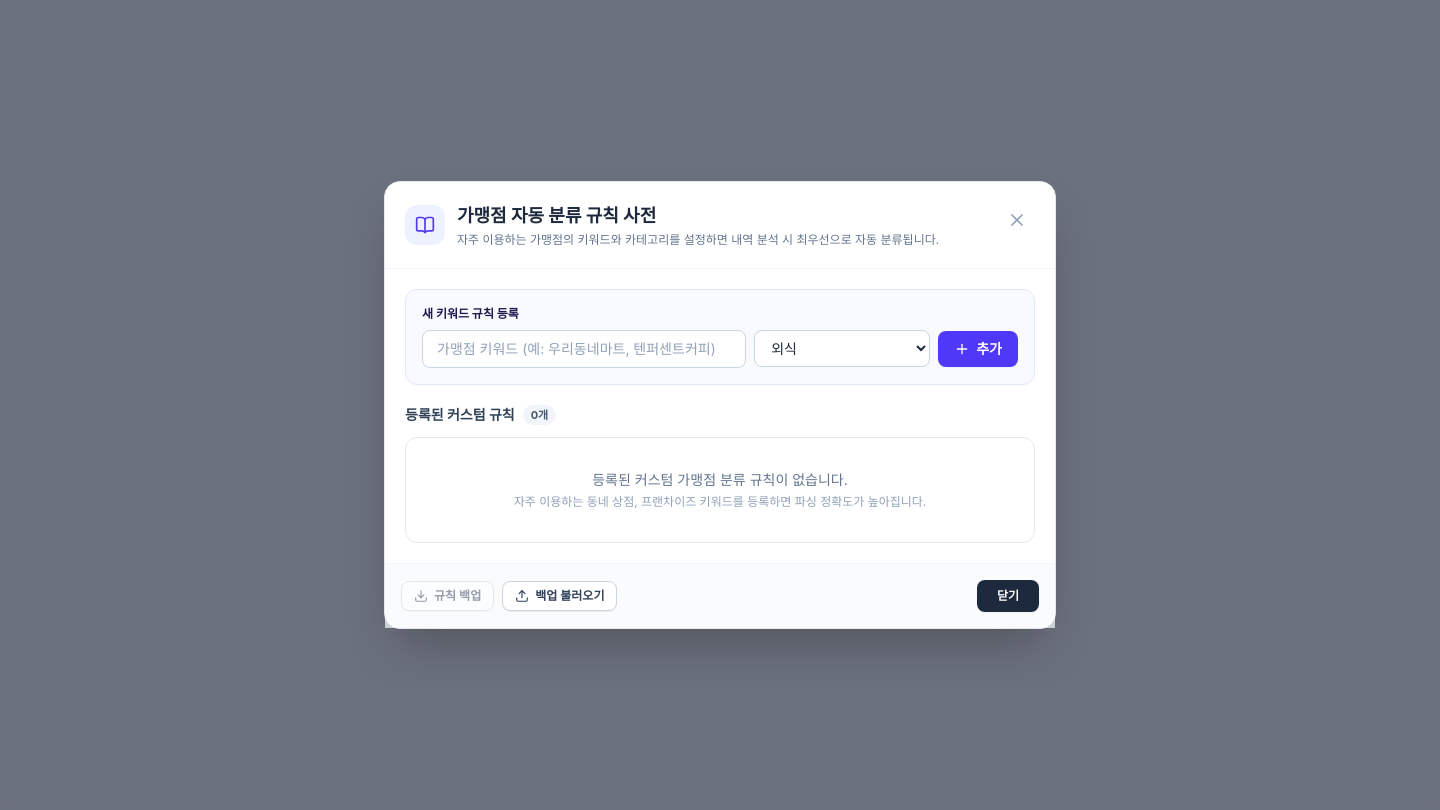
Test: MerchantRulesModal 컴포넌트 단위 및 인터랙션 테스트 › 새로운 가맹점 분류 규칙을 입력하고 추가할 수 있어야 한다
The image size is (1440, 810).
Type "동네단골식당" into the field with placeholder "가맹점 키워드 (예: 우리동네마트, 텐퍼센트커피)" at (584, 349), box [422,330,746,368]
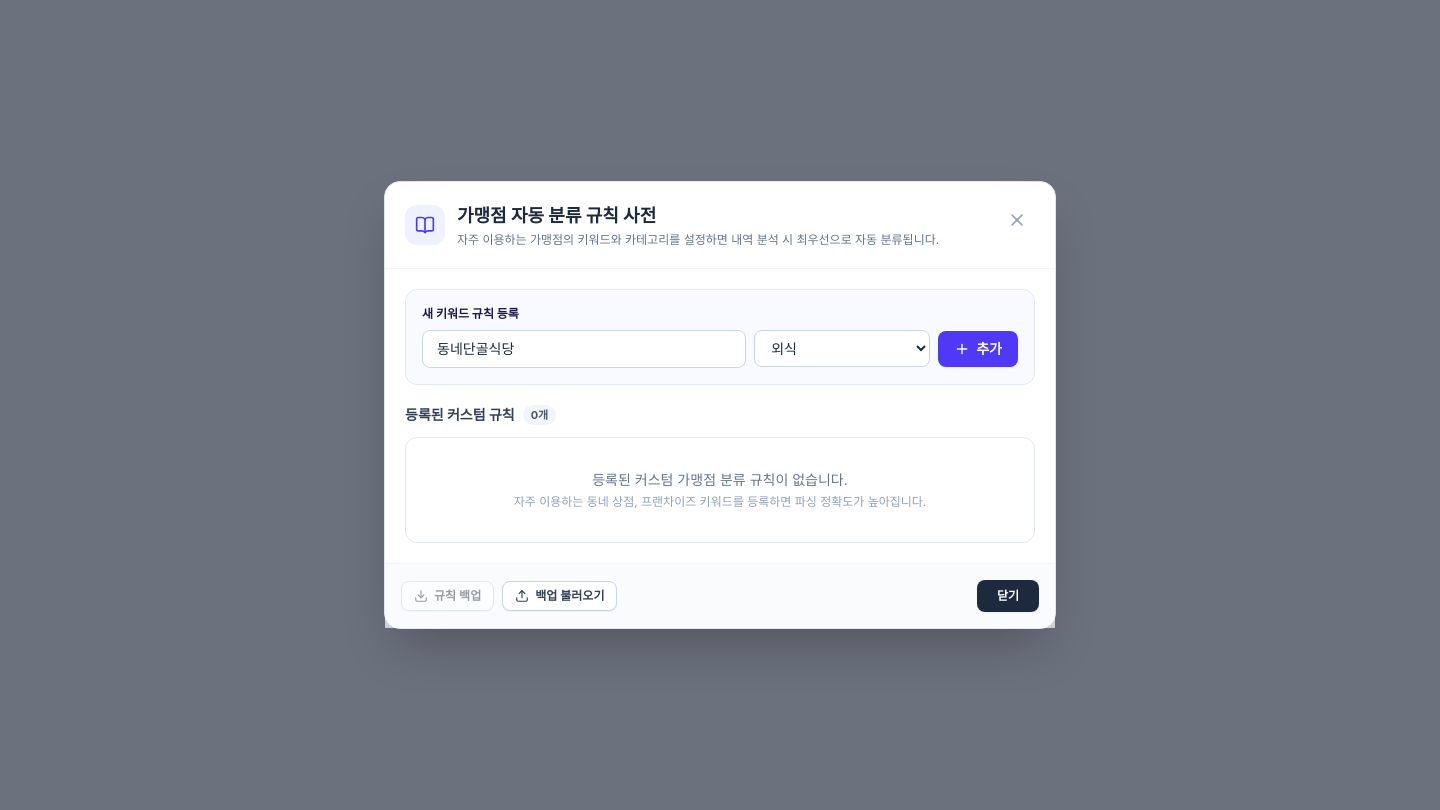
Click the button "추가" at (978, 349), box [938,331,1018,367]
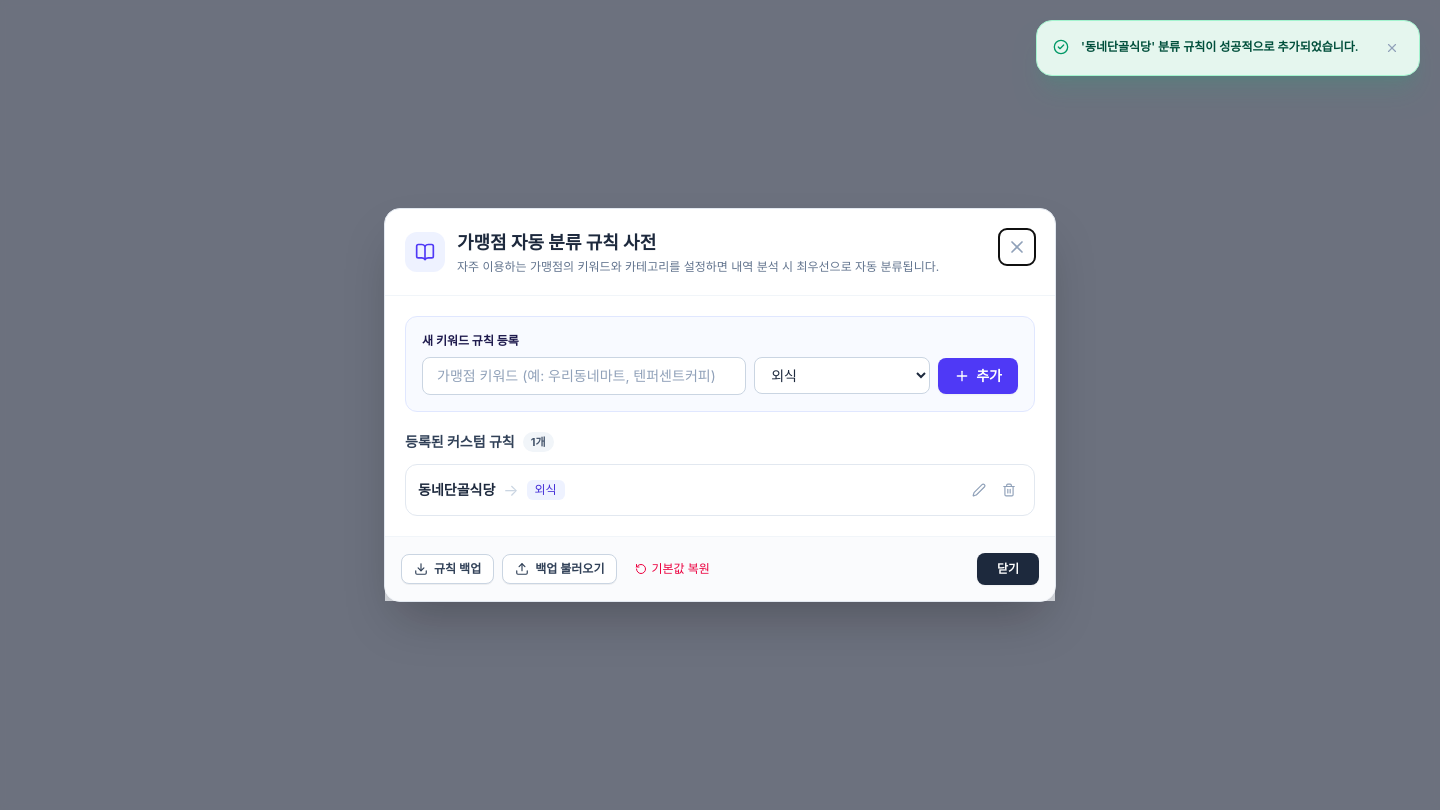
Now the text "동네단골식당" is shown, box [418,480,495,500]
